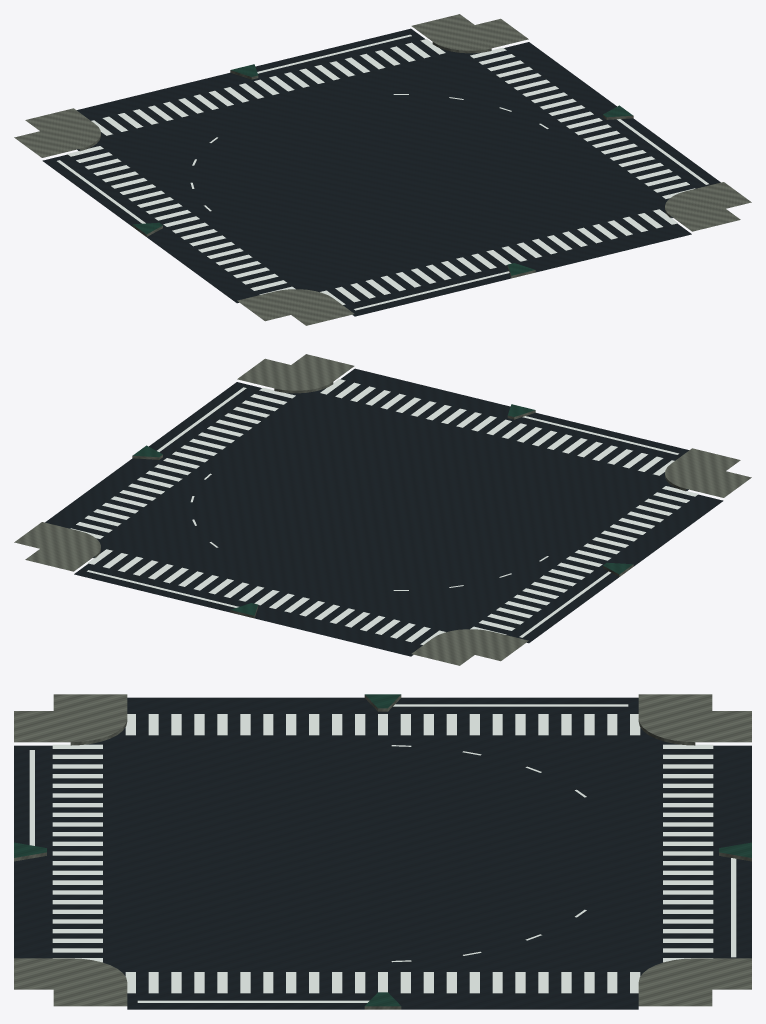
File: junc_cross_6x6_LOD0.glb
3 views of the same model, one above another, from view 1: azimuth 30°, elevation 25°; view 2: azimuth 150°, elevation 25°; view 3: azimuth 270°, elevation 25° (orthographic). The views are drawn at different scales.
Parts seen in each view (by area): view 1: junc_cross_6x6__surface, junc_cross_6x6__crosswalk_paint, junc_cross_6x6__rounded_corner_curb, junc_cross_6x6__stop_line_paint, junc_cross_6x6__median_ends; view 2: junc_cross_6x6__surface, junc_cross_6x6__crosswalk_paint, junc_cross_6x6__rounded_corner_curb, junc_cross_6x6__stop_line_paint, junc_cross_6x6__median_ends; view 3: junc_cross_6x6__surface, junc_cross_6x6__crosswalk_paint, junc_cross_6x6__rounded_corner_curb, junc_cross_6x6__stop_line_paint, junc_cross_6x6__median_ends.
Part boxes in pixels (box(x1,y1,x2,y2)): junc_cross_6x6__surface: box(42, 28, 720, 316); junc_cross_6x6__crosswalk_paint: box(67, 39, 695, 304); junc_cross_6x6__rounded_corner_curb: box(14, 14, 751, 325); junc_cross_6x6__stop_line_paint: box(57, 34, 708, 310); junc_cross_6x6__median_ends: box(132, 64, 633, 278); junc_cross_6x6__surface: box(45, 368, 723, 656); junc_cross_6x6__crosswalk_paint: box(70, 379, 698, 644); junc_cross_6x6__rounded_corner_curb: box(14, 354, 751, 665); junc_cross_6x6__stop_line_paint: box(87, 387, 678, 637); junc_cross_6x6__median_ends: box(132, 404, 633, 618); junc_cross_6x6__surface: box(14, 697, 751, 1009); junc_cross_6x6__crosswalk_paint: box(52, 714, 713, 993); junc_cross_6x6__rounded_corner_curb: box(14, 694, 751, 1006); junc_cross_6x6__stop_line_paint: box(29, 704, 736, 1002); junc_cross_6x6__median_ends: box(14, 694, 751, 1009).
Size of the model in its own units: 28 by 0.145 by 28.
Materials: 5 (4 with a texture image).
